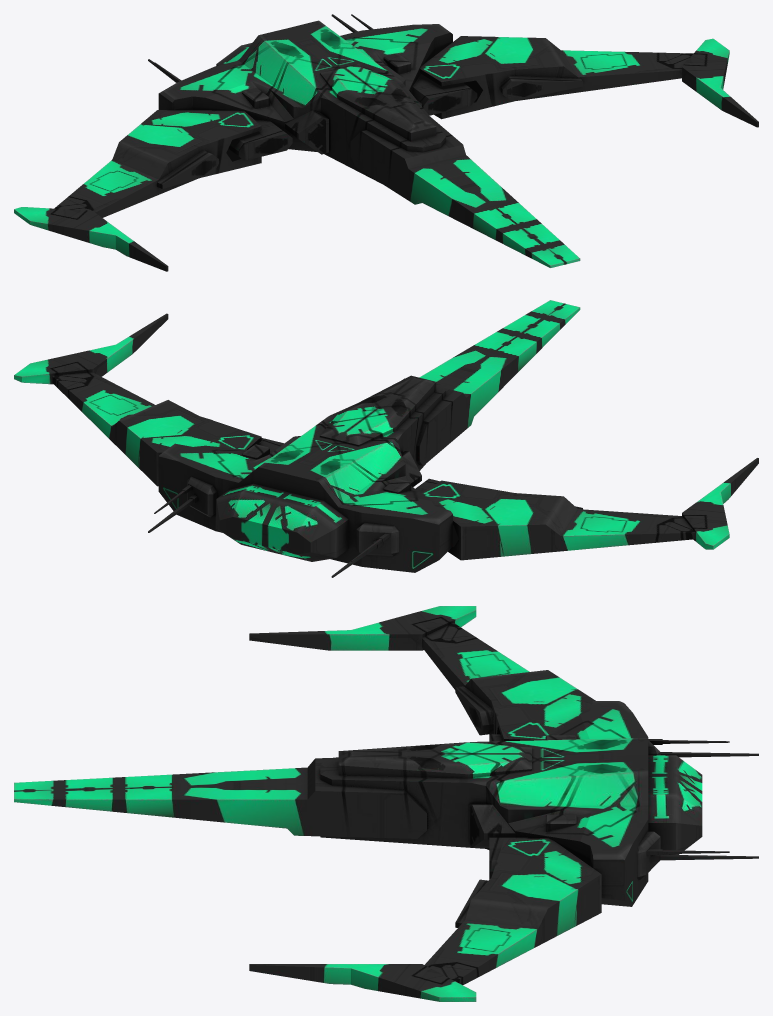
File: wraith.glb
The picture shows the model from 3 angles, top to bottom: view 1: azimuth 30°, elevation 25°; view 2: azimuth 150°, elevation 25°; view 3: azimuth 270°, elevation 25°; orthographic projection. The views are drawn at different scales.
Parts seen in each view (by area): view 1: alien_fighter_dual; view 2: alien_fighter_dual; view 3: alien_fighter_dual.
Part boxes in pixels (x1,y1,x2,y2): alien_fighter_dual: [14, 14, 758, 271]; alien_fighter_dual: [14, 300, 758, 577]; alien_fighter_dual: [14, 606, 758, 1001].
Size of the model in its own units: 5.64 by 0.5802 by 4.54.
Materials: 1 (1 with a texture image).
